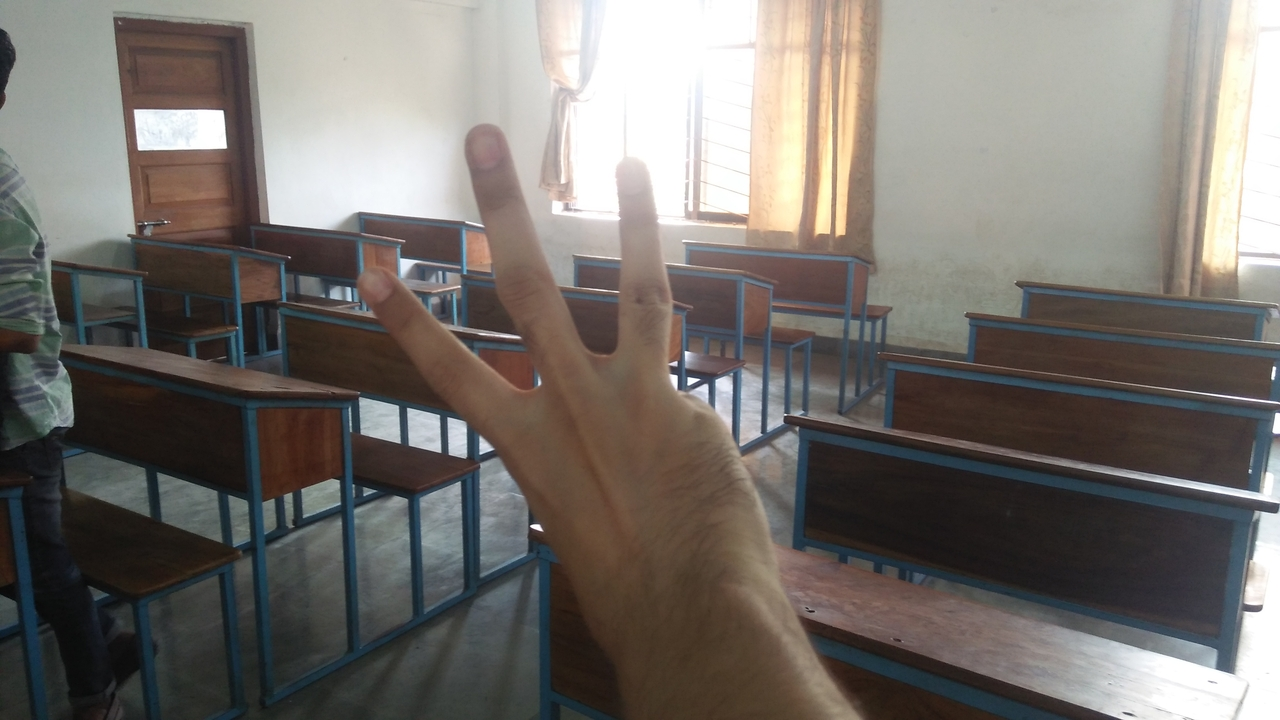fingertip: (454, 120, 516, 174), (350, 260, 404, 310), (608, 152, 662, 200)
